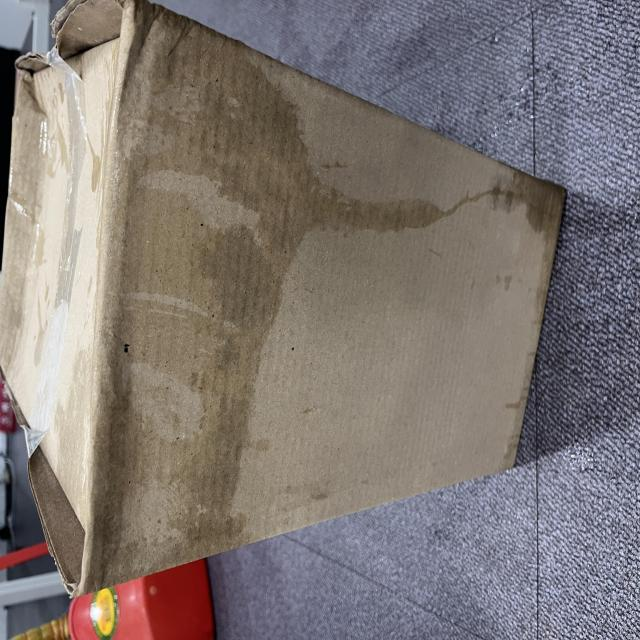wet: (44, 57, 437, 640)
